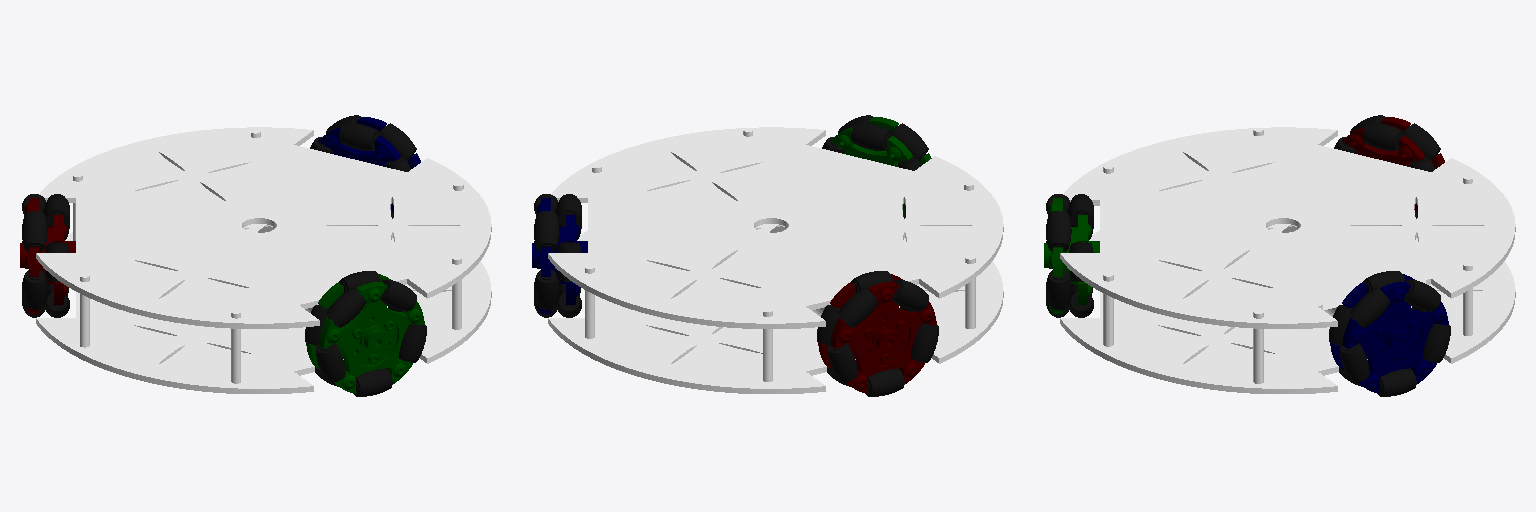
--- Facts derived from the render (not from the file) ---
3 views of the same robot in one strip: view 1: azimuth 30°, elevation 25°; view 2: azimuth 150°, elevation 25°; view 3: azimuth 270°, elevation 25° (orthographic).
Robot: open_base — 35 links, 34 joints (33 continuous, 1 fixed); root link origin_link; default pose: all joints at 0.
Visible links, largest first — view 1: base_link, rim_back_link, rim_right_link, rim_left_link, roller_lefttdownback_rim_back_link, roller_upfront_rim_right_link, roller_rightdownback_rim_left_link, roller_leftupback_rim_back_link, roller_upback_rim_back_link, roller_rightupback_rim_back_link, roller_rightupback_rim_left_link, roller_rightdownback_rim_back_link (+2 smaller); view 2: base_link, rim_left_link, rim_back_link, rim_right_link, roller_lefttdownback_rim_left_link, roller_upfront_rim_back_link, roller_rightdownback_rim_right_link, roller_leftupback_rim_left_link, roller_upback_rim_left_link, roller_rightupback_rim_left_link, roller_rightupback_rim_right_link, roller_rightdownback_rim_left_link (+3 smaller); view 3: base_link, rim_right_link, rim_left_link, rim_back_link, roller_lefttdownback_rim_right_link, roller_upfront_rim_left_link, roller_rightdownback_rim_back_link, roller_leftupback_rim_right_link, roller_upback_rim_right_link, roller_rightupback_rim_right_link, roller_rightupback_rim_back_link, roller_rightdownback_rim_right_link (+3 smaller).
Link boxes in pixels (x1,y1,x2,y2): base_link: (36, 127, 491, 393); rim_back_link: (306, 274, 424, 393); rim_right_link: (318, 117, 420, 213); rim_left_link: (20, 198, 75, 313); roller_lefttdownback_rim_back_link: (326, 288, 366, 327); roller_upfront_rim_right_link: (339, 123, 380, 150); roller_rightdownback_rim_left_link: (22, 211, 47, 251); roller_leftupback_rim_back_link: (316, 343, 345, 382); roller_upback_rim_back_link: (353, 369, 392, 396); roller_rightupback_rim_back_link: (399, 324, 426, 362); roller_rightupback_rim_left_link: (22, 270, 47, 309); roller_rightdownback_rim_back_link: (380, 279, 416, 311); base_link: (548, 127, 1003, 393); rim_left_link: (818, 274, 936, 393); rim_back_link: (830, 117, 931, 213); rim_right_link: (532, 198, 587, 313); roller_lefttdownback_rim_left_link: (838, 288, 878, 327); roller_upfront_rim_back_link: (851, 123, 892, 150); roller_rightdownback_rim_right_link: (534, 211, 559, 251); roller_leftupback_rim_left_link: (828, 343, 857, 382); roller_upback_rim_left_link: (865, 369, 904, 396); roller_rightupback_rim_left_link: (911, 324, 938, 362); roller_rightupback_rim_right_link: (534, 270, 559, 309); roller_rightdownback_rim_left_link: (892, 279, 928, 311); base_link: (1060, 127, 1515, 393); rim_right_link: (1330, 274, 1448, 393); rim_left_link: (1342, 117, 1444, 213); rim_back_link: (1044, 198, 1099, 313); roller_lefttdownback_rim_right_link: (1350, 288, 1390, 327); roller_upfront_rim_left_link: (1363, 123, 1404, 150); roller_rightdownback_rim_back_link: (1046, 211, 1071, 251); roller_leftupback_rim_right_link: (1340, 343, 1369, 382); roller_upback_rim_right_link: (1377, 369, 1416, 396); roller_rightupback_rim_right_link: (1423, 324, 1450, 362); roller_rightupback_rim_back_link: (1046, 270, 1071, 309); roller_rightdownback_rim_right_link: (1404, 279, 1440, 311).
Size in the robot's own frame: 0.226 by 0.2291 by 0.0606 metres.
34 mesh visuals loaded from 3 distinct referenced files (3 binary STL).

robot.urdf — open_base:
<?xml version="1.0" ?>
<!-- =================================================================================== -->
<!-- |    This document was autogenerated by xacro from main.urdf.xacro                | -->
<!-- |    EDITING THIS FILE BY HAND IS NOT RECOMMENDED                                 | -->
<!-- =================================================================================== -->
<robot name="open_base" xmlns:xacro="http://www.ros.org/wiki/xacro">
  <link name="origin_link"/>
  <link name="base_link">
    <inertial>
      <mass value="0.660"/>
      <inertia ixx="0.0029" ixy="3.82830626450116e-06" ixz="1.95168554660843e-06" iyy="0.00368658386788590" iyz="0.000245762249215231" izz="0.00610900095537055"/>
    </inertial>
    <visual>
      <geometry>
        <mesh filename="package://erobotica_omnibot/mesh/chassi.stl"/>
      </geometry>
      <material name="base_material">
        <color rgba="1 1 1 1"/>
      </material>
    </visual>
    <collision>
      <geometry>
        <mesh filename="package://erobotica_omnibot/mesh/chassi.stl"/>
      </geometry>
    </collision>
  </link>
  <joint name="base_joint" type="fixed">
    <parent link="origin_link"/>
    <child link="base_link"/>
    <origin xyz="0 0 0.020269"/>
  </joint>
  <link name="rim_left_link">
    <inertial>
      <origin xyz="0 0 -0.000343"/>
      <mass value="0.083"/>
      <inertia ixx="0.1449e-04" ixy="0" ixz="0" iyy="0.1449e-04" iyz="0" izz="0.2283e-04"/>
    </inertial>
    <visual>
      <geometry>
        <mesh filename="package://erobotica_omnibot/mesh/roda.stl"/>
      </geometry>
      <material name="rim_left_material">
        <color rgba="0.3 0 0 1"/>
      </material>
    </visual>
    <collision>
      <!---test -->
      <geometry>
        <!---<cylinder length="0.6" radius="0.029"/> -->
        <mesh filename="package://erobotica_omnibot/mesh/roda.stl"/>
      </geometry>
    </collision>
  </link>
  <joint name="rim_left_joint" type="continuous">
    <parent link="base_link"/>
    <child link="rim_left_link"/>
    <axis xyz="0 0 1"/>
    <origin rpy="1.570796326794896 0 1.047197551196597" xyz="-0.0893842140 0.051606 0.020269"/>
  </joint>
  <link name="roller_upfront_rim_left_link">
    <inertial>
      <mass value="0.001"/>
      <inertia ixx="3.976186554728152e-08" ixy="0" ixz="0" iyy="3.976186554728152e-08" iyz="0" izz="2.092071223656384e-08"/>
    </inertial>
    <visual>
      <geometry>
        <mesh filename="package://erobotica_omnibot/mesh/rolamento.stl"/>
      </geometry>
      <material name="roller_material">
        <color rgba="0.1 0.1 0.1 1"/>
      </material>
    </visual>
    <collision>
      <geometry>
        <mesh filename="package://erobotica_omnibot/mesh/rolamento.stl"/>
      </geometry>
    </collision>
  </link>
  <gazebo reference="roller_upfront_rim_left_link">
    <material>Gazebo/Black</material>
  </gazebo>
  <joint name="roller_upfront_rim_left_joint" type="continuous">
    <parent link="rim_left_link"/>
    <child link="roller_upfront_rim_left_link"/>
    <axis xyz="0 0 1"/>
    <origin rpy="-1.570796326794896 0 1.570796326794896" xyz="0 0.02406 0.005"/>
  </joint>
  <link name="roller_rightupfront_rim_left_link">
    <inertial>
      <mass value="0.001"/>
      <inertia ixx="3.976186554728152e-08" ixy="0" ixz="0" iyy="3.976186554728152e-08" iyz="0" izz="2.092071223656384e-08"/>
    </inertial>
    <visual>
      <geometry>
        <mesh filename="package://erobotica_omnibot/mesh/rolamento.stl"/>
      </geometry>
      <material name="roller_material">
        <color rgba="0.1 0.1 0.1 1"/>
      </material>
    </visual>
    <collision>
      <geometry>
        <mesh filename="package://erobotica_omnibot/mesh/rolamento.stl"/>
      </geometry>
    </collision>
  </link>
  <gazebo reference="roller_rightupfront_rim_left_link">
    <material>Gazebo/Black</material>
  </gazebo>
  <joint name="roller_rightupfront_rim_left_joint" type="continuous">
    <parent link="rim_left_link"/>
    <child link="roller_rightupfront_rim_left_link"/>
    <axis xyz="0 0 1"/>
    <origin rpy="-1.570796326794896 0 -2.82743" xyz=" 0.02288 0.00743 0.005"/>
  </joint>
  <link name="roller_leftupfront_rim_left_link">
    <inertial>
      <mass value="0.001"/>
      <inertia ixx="3.976186554728152e-08" ixy="0" ixz="0" iyy="3.976186554728152e-08" iyz="0" izz="2.092071223656384e-08"/>
    </inertial>
    <visual>
      <geometry>
        <mesh filename="package://erobotica_omnibot/mesh/rolamento.stl"/>
      </geometry>
      <material name="roller_material">
        <color rgba="0.1 0.1 0.1 1"/>
      </material>
    </visual>
    <collision>
      <geometry>
        <mesh filename="package://erobotica_omnibot/mesh/rolamento.stl"/>
      </geometry>
    </collision>
  </link>
  <gazebo reference="roller_leftupfront_rim_left_link">
    <material>Gazebo/Black</material>
  </gazebo>
  <joint name="roller_leftupfront_rim_left_joint" type="continuous">
    <parent link="rim_left_link"/>
    <child link="roller_leftupfront_rim_left_link"/>
    <axis xyz="0 0 1"/>
    <origin rpy="-1.570796326794896 0 2.82743" xyz=" -0.02288  0.00743 0.005"/>
  </joint>
  <link name="roller_rightdownfront_rim_left_link">
    <inertial>
      <mass value="0.001"/>
      <inertia ixx="3.976186554728152e-08" ixy="0" ixz="0" iyy="3.976186554728152e-08" iyz="0" izz="2.092071223656384e-08"/>
    </inertial>
    <visual>
      <geometry>
        <mesh filename="package://erobotica_omnibot/mesh/rolamento.stl"/>
      </geometry>
      <material name="roller_material">
        <color rgba="0.1 0.1 0.1 1"/>
      </material>
    </visual>
    <collision>
      <geometry>
        <mesh filename="package://erobotica_omnibot/mesh/rolamento.stl"/>
      </geometry>
    </collision>
  </link>
  <gazebo reference="roller_rightdownfront_rim_left_link">
    <material>Gazebo/Black</material>
  </gazebo>
  <joint name="roller_rightdownfront_rim_left_joint" type="continuous">
    <parent link="rim_left_link"/>
    <child link="roller_rightdownfront_rim_left_link"/>
    <axis xyz="0 0 1"/>
    <origin rpy="-1.570796326794896 0 -0.959931" xyz="0.01414 -0.01947 0.005"/>
  </joint>
  <link name="roller_lefttdownfront_rim_left_link">
    <inertial>
      <mass value="0.001"/>
      <inertia ixx="3.976186554728152e-08" ixy="0" ixz="0" iyy="3.976186554728152e-08" iyz="0" izz="2.092071223656384e-08"/>
    </inertial>
    <visual>
      <geometry>
        <mesh filename="package://erobotica_omnibot/mesh/rolamento.stl"/>
      </geometry>
      <material name="roller_material">
        <color rgba="0.1 0.1 0.1 1"/>
      </material>
    </visual>
    <collision>
      <geometry>
        <mesh filename="package://erobotica_omnibot/mesh/rolamento.stl"/>
      </geometry>
    </collision>
  </link>
  <gazebo reference="roller_lefttdownfront_rim_left_link">
    <material>Gazebo/Black</material>
  </gazebo>
  <joint name="roller_lefttdownfront_rim_left_joint" type="continuous">
    <parent link="rim_left_link"/>
    <child link="roller_lefttdownfront_rim_left_link"/>
    <axis xyz="0 0 1"/>
    <origin rpy="-1.570796326794896 0 0.959931" xyz="-0.01414 -0.01947 0.005"/>
  </joint>
  <!---Back part of the wheel -->
  <link name="roller_upback_rim_left_link">
    <inertial>
      <mass value="0.001"/>
      <inertia ixx="3.976186554728152e-08" ixy="0" ixz="0" iyy="3.976186554728152e-08" iyz="0" izz="2.092071223656384e-08"/>
    </inertial>
    <visual>
      <geometry>
        <mesh filename="package://erobotica_omnibot/mesh/rolamento.stl"/>
      </geometry>
      <material name="roller_material">
        <color rgba="0.1 0.1 0.1 1"/>
      </material>
    </visual>
    <collision>
      <geometry>
        <mesh filename="package://erobotica_omnibot/mesh/rolamento.stl"/>
      </geometry>
    </collision>
  </link>
  <gazebo reference="roller_upback_rim_left_link">
    <material>Gazebo/Black</material>
  </gazebo>
  <joint name="roller_upback_rim_left_joint" type="continuous">
    <parent link="rim_left_link"/>
    <child link="roller_upback_rim_left_link"/>
    <axis xyz="0 0 1"/>
    <origin rpy="-1.570796326794896 0 1.570796326794896" xyz="0 -0.02406 -0.006"/>
  </joint>
  <link name="roller_rightupback_rim_left_link">
    <inertial>
      <mass value="0.001"/>
      <inertia ixx="3.976186554728152e-08" ixy="0" ixz="0" iyy="3.976186554728152e-08" iyz="0" izz="2.092071223656384e-08"/>
    </inertial>
    <visual>
      <geometry>
        <mesh filename="package://erobotica_omnibot/mesh/rolamento.stl"/>
      </geometry>
      <material name="roller_material">
        <color rgba="0.1 0.1 0.1 1"/>
      </material>
    </visual>
    <collision>
      <geometry>
        <mesh filename="package://erobotica_omnibot/mesh/rolamento.stl"/>
      </geometry>
    </collision>
  </link>
  <gazebo reference="roller_rightupback_rim_left_link">
    <material>Gazebo/Black</material>
  </gazebo>
  <joint name="roller_rightupback_rim_left_joint" type="continuous">
    <parent link="rim_left_link"/>
    <child link="roller_rightupback_rim_left_link"/>
    <axis xyz="0 0 1"/>
    <origin rpy="-1.570796326794896 0 -2.82743" xyz=" -0.02288 -0.00743 -0.006"/>
  </joint>
  <link name="roller_leftupback_rim_left_link">
    <inertial>
      <mass value="0.001"/>
      <inertia ixx="3.976186554728152e-08" ixy="0" ixz="0" iyy="3.976186554728152e-08" iyz="0" izz="2.092071223656384e-08"/>
    </inertial>
    <visual>
      <geometry>
        <mesh filename="package://erobotica_omnibot/mesh/rolamento.stl"/>
      </geometry>
      <material name="roller_material">
        <color rgba="0.1 0.1 0.1 1"/>
      </material>
    </visual>
    <collision>
      <geometry>
        <mesh filename="package://erobotica_omnibot/mesh/rolamento.stl"/>
      </geometry>
    </collision>
  </link>
  <gazebo reference="roller_leftupback_rim_left_link">
    <material>Gazebo/Black</material>
  </gazebo>
  <joint name="roller_leftupback_rim_left_joint" type="continuous">
    <parent link="rim_left_link"/>
    <child link="roller_leftupback_rim_left_link"/>
    <axis xyz="0 0 1"/>
    <origin rpy="-1.570796326794896 0 2.82743" xyz=" 0.02288 -0.00743 -0.006"/>
  </joint>
  <link name="roller_rightdownback_rim_left_link">
    <inertial>
      <mass value="0.001"/>
      <inertia ixx="3.976186554728152e-08" ixy="0" ixz="0" iyy="3.976186554728152e-08" iyz="0" izz="2.092071223656384e-08"/>
    </inertial>
    <visual>
      <geometry>
        <mesh filename="package://erobotica_omnibot/mesh/rolamento.stl"/>
      </geometry>
      <material name="roller_material">
        <color rgba="0.1 0.1 0.1 1"/>
      </material>
    </visual>
    <collision>
      <geometry>
        <mesh filename="package://erobotica_omnibot/mesh/rolamento.stl"/>
      </geometry>
    </collision>
  </link>
  <gazebo reference="roller_rightdownback_rim_left_link">
    <material>Gazebo/Black</material>
  </gazebo>
  <joint name="roller_rightdownback_rim_left_joint" type="continuous">
    <parent link="rim_left_link"/>
    <child link="roller_rightdownback_rim_left_link"/>
    <axis xyz="0 0 1"/>
    <origin rpy="-1.570796326794896 0 -0.959931" xyz="-0.01414 0.01947 -0.006"/>
  </joint>
  <link name="roller_lefttdownback_rim_left_link">
    <inertial>
      <mass value="0.001"/>
      <inertia ixx="3.976186554728152e-08" ixy="0" ixz="0" iyy="3.976186554728152e-08" iyz="0" izz="2.092071223656384e-08"/>
    </inertial>
    <visual>
      <geometry>
        <mesh filename="package://erobotica_omnibot/mesh/rolamento.stl"/>
      </geometry>
      <material name="roller_material">
        <color rgba="0.1 0.1 0.1 1"/>
      </material>
    </visual>
    <collision>
      <geometry>
        <mesh filename="package://erobotica_omnibot/mesh/rolamento.stl"/>
      </geometry>
    </collision>
  </link>
  <gazebo reference="roller_lefttdownback_rim_left_link">
    <material>Gazebo/Black</material>
  </gazebo>
  <joint name="roller_lefttdownback_rim_left_joint" type="continuous">
    <parent link="rim_left_link"/>
    <child link="roller_lefttdownback_rim_left_link"/>
    <axis xyz="0 0 1"/>
    <origin rpy="-1.570796326794896 0 0.959931" xyz="0.01414  0.01947 -0.006"/>
  </joint>
  <transmission name="rim_left_transmission">
    <type>transmission_interface/SimpleTransmission</type>
    <joint name="rim_left_joint">
      <hardwareInterface>hardware_interface/VelocityJointInterface</hardwareInterface>
    </joint>
    <actuator name="rim_left_motor">
      <hardwareInterface>hardware_interface/VelocityJointInterface</hardwareInterface>
      <mechanicalReduction>1</mechanicalReduction>
    </actuator>
  </transmission>
  <link name="rim_back_link">
    <inertial>
      <origin xyz="0 0 -0.000343"/>
      <mass value="0.083"/>
      <inertia ixx="0.1449e-04" ixy="0" ixz="0" iyy="0.1449e-04" iyz="0" izz="0.2283e-04"/>
    </inertial>
    <visual>
      <geometry>
        <mesh filename="package://erobotica_omnibot/mesh/roda.stl"/>
      </geometry>
      <material name="rim_back_material">
        <color rgba="0 0.3 0 1"/>
      </material>
    </visual>
    <collision>
      <!---test -->
      <geometry>
        <!---<cylinder length="0.6" radius="0.029"/> -->
        <mesh filename="package://erobotica_omnibot/mesh/roda.stl"/>
      </geometry>
    </collision>
  </link>
  <joint name="rim_back_joint" type="continuous">
    <parent link="base_link"/>
    <child link="rim_back_link"/>
    <axis xyz="0 0 1"/>
    <origin rpy="1.570796326794896 0 3.141592653589793" xyz="0 -0.103212  0.020269"/>
  </joint>
  <link name="roller_upfront_rim_back_link">
    <inertial>
      <mass value="0.001"/>
      <inertia ixx="3.976186554728152e-08" ixy="0" ixz="0" iyy="3.976186554728152e-08" iyz="0" izz="2.092071223656384e-08"/>
    </inertial>
    <visual>
      <geometry>
        <mesh filename="package://erobotica_omnibot/mesh/rolamento.stl"/>
      </geometry>
      <material name="roller_material">
        <color rgba="0.1 0.1 0.1 1"/>
      </material>
    </visual>
    <collision>
      <geometry>
        <mesh filename="package://erobotica_omnibot/mesh/rolamento.stl"/>
      </geometry>
    </collision>
  </link>
  <gazebo reference="roller_upfront_rim_back_link">
    <material>Gazebo/Black</material>
  </gazebo>
  <joint name="roller_upfront_rim_back_joint" type="continuous">
    <parent link="rim_back_link"/>
    <child link="roller_upfront_rim_back_link"/>
    <axis xyz="0 0 1"/>
    <origin rpy="-1.570796326794896 0 1.570796326794896" xyz="0 0.02406 0.005"/>
  </joint>
  <link name="roller_rightupfront_rim_back_link">
    <inertial>
      <mass value="0.001"/>
      <inertia ixx="3.976186554728152e-08" ixy="0" ixz="0" iyy="3.976186554728152e-08" iyz="0" izz="2.092071223656384e-08"/>
    </inertial>
    <visual>
      <geometry>
        <mesh filename="package://erobotica_omnibot/mesh/rolamento.stl"/>
      </geometry>
      <material name="roller_material">
        <color rgba="0.1 0.1 0.1 1"/>
      </material>
    </visual>
    <collision>
      <geometry>
        <mesh filename="package://erobotica_omnibot/mesh/rolamento.stl"/>
      </geometry>
    </collision>
  </link>
  <gazebo reference="roller_rightupfront_rim_back_link">
    <material>Gazebo/Black</material>
  </gazebo>
  <joint name="roller_rightupfront_rim_back_joint" type="continuous">
    <parent link="rim_back_link"/>
    <child link="roller_rightupfront_rim_back_link"/>
    <axis xyz="0 0 1"/>
    <origin rpy="-1.570796326794896 0 -2.82743" xyz=" 0.02288 0.00743 0.005"/>
  </joint>
  <link name="roller_leftupfront_rim_back_link">
    <inertial>
      <mass value="0.001"/>
      <inertia ixx="3.976186554728152e-08" ixy="0" ixz="0" iyy="3.976186554728152e-08" iyz="0" izz="2.092071223656384e-08"/>
    </inertial>
    <visual>
      <geometry>
        <mesh filename="package://erobotica_omnibot/mesh/rolamento.stl"/>
      </geometry>
      <material name="roller_material">
        <color rgba="0.1 0.1 0.1 1"/>
      </material>
    </visual>
    <collision>
      <geometry>
        <mesh filename="package://erobotica_omnibot/mesh/rolamento.stl"/>
      </geometry>
    </collision>
  </link>
  <gazebo reference="roller_leftupfront_rim_back_link">
    <material>Gazebo/Black</material>
  </gazebo>
  <joint name="roller_leftupfront_rim_back_joint" type="continuous">
    <parent link="rim_back_link"/>
    <child link="roller_leftupfront_rim_back_link"/>
    <axis xyz="0 0 1"/>
    <origin rpy="-1.570796326794896 0 2.82743" xyz=" -0.02288  0.00743 0.005"/>
  </joint>
  <link name="roller_rightdownfront_rim_back_link">
    <inertial>
      <mass value="0.001"/>
      <inertia ixx="3.976186554728152e-08" ixy="0" ixz="0" iyy="3.976186554728152e-08" iyz="0" izz="2.092071223656384e-08"/>
    </inertial>
    <visual>
      <geometry>
        <mesh filename="package://erobotica_omnibot/mesh/rolamento.stl"/>
      </geometry>
      <material name="roller_material">
        <color rgba="0.1 0.1 0.1 1"/>
      </material>
    </visual>
    <collision>
      <geometry>
        <mesh filename="package://erobotica_omnibot/mesh/rolamento.stl"/>
      </geometry>
    </collision>
  </link>
  <gazebo reference="roller_rightdownfront_rim_back_link">
    <material>Gazebo/Black</material>
  </gazebo>
  <joint name="roller_rightdownfront_rim_back_joint" type="continuous">
    <parent link="rim_back_link"/>
    <child link="roller_rightdownfront_rim_back_link"/>
    <axis xyz="0 0 1"/>
    <origin rpy="-1.570796326794896 0 -0.959931" xyz="0.01414 -0.01947 0.005"/>
  </joint>
  <link name="roller_lefttdownfront_rim_back_link">
    <inertial>
      <mass value="0.001"/>
      <inertia ixx="3.976186554728152e-08" ixy="0" ixz="0" iyy="3.976186554728152e-08" iyz="0" izz="2.092071223656384e-08"/>
    </inertial>
    <visual>
      <geometry>
        <mesh filename="package://erobotica_omnibot/mesh/rolamento.stl"/>
      </geometry>
      <material name="roller_material">
        <color rgba="0.1 0.1 0.1 1"/>
      </material>
    </visual>
    <collision>
      <geometry>
        <mesh filename="package://erobotica_omnibot/mesh/rolamento.stl"/>
      </geometry>
    </collision>
  </link>
  <gazebo reference="roller_lefttdownfront_rim_back_link">
    <material>Gazebo/Black</material>
  </gazebo>
  <joint name="roller_lefttdownfront_rim_back_joint" type="continuous">
    <parent link="rim_back_link"/>
    <child link="roller_lefttdownfront_rim_back_link"/>
    <axis xyz="0 0 1"/>
    <origin rpy="-1.570796326794896 0 0.959931" xyz="-0.01414 -0.01947 0.005"/>
  </joint>
  <!---Back part of the wheel -->
  <link name="roller_upback_rim_back_link">
    <inertial>
      <mass value="0.001"/>
      <inertia ixx="3.976186554728152e-08" ixy="0" ixz="0" iyy="3.976186554728152e-08" iyz="0" izz="2.092071223656384e-08"/>
    </inertial>
    <visual>
      <geometry>
        <mesh filename="package://erobotica_omnibot/mesh/rolamento.stl"/>
      </geometry>
      <material name="roller_material">
        <color rgba="0.1 0.1 0.1 1"/>
      </material>
    </visual>
    <collision>
      <geometry>
        <mesh filename="package://erobotica_omnibot/mesh/rolamento.stl"/>
      </geometry>
    </collision>
  </link>
  <gazebo reference="roller_upback_rim_back_link">
    <material>Gazebo/Black</material>
  </gazebo>
  <joint name="roller_upback_rim_back_joint" type="continuous">
    <parent link="rim_back_link"/>
    <child link="roller_upback_rim_back_link"/>
    <axis xyz="0 0 1"/>
    <origin rpy="-1.570796326794896 0 1.570796326794896" xyz="0 -0.02406 -0.006"/>
  </joint>
  <link name="roller_rightupback_rim_back_link">
    <inertial>
      <mass value="0.001"/>
      <inertia ixx="3.976186554728152e-08" ixy="0" ixz="0" iyy="3.976186554728152e-08" iyz="0" izz="2.092071223656384e-08"/>
    </inertial>
    <visual>
      <geometry>
        <mesh filename="package://erobotica_omnibot/mesh/rolamento.stl"/>
      </geometry>
      <material name="roller_material">
        <color rgba="0.1 0.1 0.1 1"/>
      </material>
    </visual>
    <collision>
      <geometry>
        <mesh filename="package://erobotica_omnibot/mesh/rolamento.stl"/>
      </geometry>
    </collision>
  </link>
  <gazebo reference="roller_rightupback_rim_back_link">
    <material>Gazebo/Black</material>
  </gazebo>
  <joint name="roller_rightupback_rim_back_joint" type="continuous">
    <parent link="rim_back_link"/>
    <child link="roller_rightupback_rim_back_link"/>
    <axis xyz="0 0 1"/>
    <origin rpy="-1.570796326794896 0 -2.82743" xyz=" -0.02288 -0.00743 -0.006"/>
  </joint>
  <link name="roller_leftupback_rim_back_link">
    <inertial>
      <mass value="0.001"/>
      <inertia ixx="3.976186554728152e-08" ixy="0" ixz="0" iyy="3.976186554728152e-08" iyz="0" izz="2.092071223656384e-08"/>
    </inertial>
    <visual>
      <geometry>
        <mesh filename="package://erobotica_omnibot/mesh/rolamento.stl"/>
      </geometry>
      <material name="roller_material">
        <color rgba="0.1 0.1 0.1 1"/>
      </material>
    </visual>
    <collision>
      <geometry>
        <mesh filename="package://erobotica_omnibot/mesh/rolamento.stl"/>
      </geometry>
    </collision>
  </link>
  <gazebo reference="roller_leftupback_rim_back_link">
    <material>Gazebo/Black</material>
  </gazebo>
  <joint name="roller_leftupback_rim_back_joint" type="continuous">
    <parent link="rim_back_link"/>
    <child link="roller_leftupback_rim_back_link"/>
    <axis xyz="0 0 1"/>
    <origin rpy="-1.570796326794896 0 2.82743" xyz=" 0.02288 -0.00743 -0.006"/>
  </joint>
  <link name="roller_rightdownback_rim_back_link">
    <inertial>
      <mass value="0.001"/>
      <inertia ixx="3.976186554728152e-08" ixy="0" ixz="0" iyy="3.976186554728152e-08" iyz="0" izz="2.092071223656384e-08"/>
    </inertial>
    <visual>
      <geometry>
        <mesh filename="package://erobotica_omnibot/mesh/rolamento.stl"/>
      </geometry>
      <material name="roller_material">
        <color rgba="0.1 0.1 0.1 1"/>
      </material>
    </visual>
    <collision>
      <geometry>
        <mesh filename="package://erobotica_omnibot/mesh/rolamento.stl"/>
      </geometry>
    </collision>
  </link>
  <gazebo reference="roller_rightdownback_rim_back_link">
    <material>Gazebo/Black</material>
  </gazebo>
  <joint name="roller_rightdownback_rim_back_joint" type="continuous">
    <parent link="rim_back_link"/>
    <child link="roller_rightdownback_rim_back_link"/>
    <axis xyz="0 0 1"/>
    <origin rpy="-1.570796326794896 0 -0.959931" xyz="-0.01414 0.01947 -0.006"/>
  </joint>
  <link name="roller_lefttdownback_rim_back_link">
    <inertial>
      <mass value="0.001"/>
      <inertia ixx="3.976186554728152e-08" ixy="0" ixz="0" iyy="3.976186554728152e-08" iyz="0" izz="2.092071223656384e-08"/>
    </inertial>
    <visual>
      <geometry>
        <mesh filename="package://erobotica_omnibot/mesh/rolamento.stl"/>
      </geometry>
      <material name="roller_material">
        <color rgba="0.1 0.1 0.1 1"/>
      </material>
    </visual>
    <collision>
      <geometry>
        <mesh filename="package://erobotica_omnibot/mesh/rolamento.stl"/>
      </geometry>
    </collision>
  </link>
  <gazebo reference="roller_lefttdownback_rim_back_link">
    <material>Gazebo/Black</material>
  </gazebo>
  <joint name="roller_lefttdownback_rim_back_joint" type="continuous">
    <parent link="rim_back_link"/>
    <child link="roller_lefttdownback_rim_back_link"/>
    <axis xyz="0 0 1"/>
    <origin rpy="-1.570796326794896 0 0.959931" xyz="0.01414  0.01947 -0.006"/>
  </joint>
  <transmission name="rim_back_transmission">
    <type>transmission_interface/SimpleTransmission</type>
    <joint name="rim_back_joint">
      <hardwareInterface>hardware_interface/VelocityJointInterface</hardwareInterface>
    </joint>
    <actuator name="rim_back_motor">
      <hardwareInterface>hardware_interface/VelocityJointInterface</hardwareInterface>
      <mechanicalReduction>1</mechanicalReduction>
    </actuator>
  </transmission>
  <link name="rim_right_link">
    <inertial>
      <origin xyz="0 0 -0.000343"/>
      <mass value="0.083"/>
      <inertia ixx="0.1449e-04" ixy="0" ixz="0" iyy="0.1449e-04" iyz="0" izz="0.2283e-04"/>
    </inertial>
    <visual>
      <geometry>
        <mesh filename="package://erobotica_omnibot/mesh/roda.stl"/>
      </geometry>
      <material name="rim_right_material">
        <color rgba="0 0 0.3 1"/>
      </material>
    </visual>
    <collision>
      <!---test -->
      <geometry>
        <!---<cylinder length="0.6" radius="0.029"/> -->
        <mesh filename="package://erobotica_omnibot/mesh/roda.stl"/>
      </geometry>
    </collision>
  </link>
  <joint name="rim_right_joint" type="continuous">
    <parent link="base_link"/>
    <child link="rim_right_link"/>
    <axis xyz="0 0 1"/>
    <origin rpy="1.570796326794896 0 -1.047197551196597" xyz="0.0893842140 0.051606 0.020269"/>
  </joint>
  <link name="roller_upfront_rim_right_link">
    <inertial>
      <mass value="0.001"/>
      <inertia ixx="3.976186554728152e-08" ixy="0" ixz="0" iyy="3.976186554728152e-08" iyz="0" izz="2.092071223656384e-08"/>
    </inertial>
    <visual>
      <geometry>
        <mesh filename="package://erobotica_omnibot/mesh/rolamento.stl"/>
      </geometry>
      <material name="roller_material">
        <color rgba="0.1 0.1 0.1 1"/>
      </material>
    </visual>
    <collision>
      <geometry>
        <mesh filename="package://erobotica_omnibot/mesh/rolamento.stl"/>
      </geometry>
    </collision>
  </link>
  <gazebo reference="roller_upfront_rim_right_link">
    <material>Gazebo/Black</material>
  </gazebo>
  <joint name="roller_upfront_rim_right_joint" type="continuous">
    <parent link="rim_right_link"/>
    <child link="roller_upfront_rim_right_link"/>
    <axis xyz="0 0 1"/>
    <origin rpy="-1.570796326794896 0 1.570796326794896" xyz="0 0.02406 0.005"/>
  </joint>
  <link name="roller_rightupfront_rim_right_link">
    <inertial>
      <mass value="0.001"/>
      <inertia ixx="3.976186554728152e-08" ixy="0" ixz="0" iyy="3.976186554728152e-08" iyz="0" izz="2.092071223656384e-08"/>
    </inertial>
    <visual>
      <geometry>
        <mesh filename="package://erobotica_omnibot/mesh/rolamento.stl"/>
      </geometry>
      <material name="roller_material">
        <color rgba="0.1 0.1 0.1 1"/>
      </material>
    </visual>
    <collision>
      <geometry>
        <mesh filename="package://erobotica_omnibot/mesh/rolamento.stl"/>
      </geometry>
    </collision>
  </link>
  <gazebo reference="roller_rightupfront_rim_right_link">
    <material>Gazebo/Black</material>
  </gazebo>
  <joint name="roller_rightupfront_rim_right_joint" type="continuous">
    <parent link="rim_right_link"/>
    <child link="roller_rightupfront_rim_right_link"/>
    <axis xyz="0 0 1"/>
    <origin rpy="-1.570796326794896 0 -2.82743" xyz=" 0.02288 0.00743 0.005"/>
  </joint>
  <link name="roller_leftupfront_rim_right_link">
    <inertial>
      <mass value="0.001"/>
      <inertia ixx="3.976186554728152e-08" ixy="0" ixz="0" iyy="3.976186554728152e-08" iyz="0" izz="2.092071223656384e-08"/>
    </inertial>
    <visual>
      <geometry>
        <mesh filename="package://erobotica_omnibot/mesh/rolamento.stl"/>
      </geometry>
      <material name="roller_material">
        <color rgba="0.1 0.1 0.1 1"/>
      </material>
    </visual>
    <collision>
      <geometry>
        <mesh filename="package://erobotica_omnibot/mesh/rolamento.stl"/>
      </geometry>
    </collision>
  </link>
  <gazebo reference="roller_leftupfront_rim_right_link">
    <material>Gazebo/Black</material>
  </gazebo>
  <joint name="roller_leftupfront_rim_right_joint" type="continuous">
    <parent link="rim_right_link"/>
    <child link="roller_leftupfront_rim_right_link"/>
    <axis xyz="0 0 1"/>
    <origin rpy="-1.570796326794896 0 2.82743" xyz=" -0.02288  0.00743 0.005"/>
  </joint>
  <link name="roller_rightdownfront_rim_right_link">
    <inertial>
      <mass value="0.001"/>
      <inertia ixx="3.976186554728152e-08" ixy="0" ixz="0" iyy="3.976186554728152e-08" iyz="0" izz="2.092071223656384e-08"/>
    </inertial>
    <visual>
      <geometry>
        <mesh filename="package://erobotica_omnibot/mesh/rolamento.stl"/>
      </geometry>
      <material name="roller_material">
        <color rgba="0.1 0.1 0.1 1"/>
      </material>
    </visual>
    <collision>
      <geometry>
        <mesh filename="package://erobotica_omnibot/mesh/rolamento.stl"/>
      </geometry>
    </collision>
  </link>
  <gazebo reference="roller_rightdownfront_rim_right_link">
    <material>Gazebo/Black</material>
  </gazebo>
  <joint name="roller_rightdownfront_rim_right_joint" type="continuous">
    <parent link="rim_right_link"/>
    <child link="roller_rightdownfront_rim_right_link"/>
    <axis xyz="0 0 1"/>
    <origin rpy="-1.570796326794896 0 -0.959931" xyz="0.01414 -0.01947 0.005"/>
  </joint>
  <link name="roller_lefttdownfront_rim_right_link">
    <inertial>
      <mass value="0.001"/>
      <inertia ixx="3.976186554728152e-08" ixy="0" ixz="0" iyy="3.976186554728152e-08" iyz="0" izz="2.092071223656384e-08"/>
    </inertial>
    <visual>
      <geometry>
        <mesh filename="package://erobotica_omnibot/mesh/rolamento.stl"/>
      </geometry>
      <material name="roller_material">
        <color rgba="0.1 0.1 0.1 1"/>
      </material>
    </visual>
    <collision>
      <geometry>
        <mesh filename="package://erobotica_omnibot/mesh/rolamento.stl"/>
      </geometry>
    </collision>
  </link>
  <gazebo reference="roller_lefttdownfront_rim_right_link">
    <material>Gazebo/Black</material>
  </gazebo>
  <joint name="roller_lefttdownfront_rim_right_joint" type="continuous">
    <parent link="rim_right_link"/>
    <child link="roller_lefttdownfront_rim_right_link"/>
    <axis xyz="0 0 1"/>
    <origin rpy="-1.570796326794896 0 0.959931" xyz="-0.01414 -0.01947 0.005"/>
  </joint>
  <!---Back part of the wheel -->
  <link name="roller_upback_rim_right_link">
    <inertial>
      <mass value="0.001"/>
      <inertia ixx="3.976186554728152e-08" ixy="0" ixz="0" iyy="3.976186554728152e-08" iyz="0" izz="2.092071223656384e-08"/>
    </inertial>
    <visual>
      <geometry>
        <mesh filename="package://erobotica_omnibot/mesh/rolamento.stl"/>
      </geometry>
      <material name="roller_material">
        <color rgba="0.1 0.1 0.1 1"/>
      </material>
    </visual>
    <collision>
      <geometry>
        <mesh filename="package://erobotica_omnibot/mesh/rolamento.stl"/>
      </geometry>
    </collision>
  </link>
  <gazebo reference="roller_upback_rim_right_link">
    <material>Gazebo/Black</material>
  </gazebo>
  <joint name="roller_upback_rim_right_joint" type="continuous">
    <parent link="rim_right_link"/>
    <child link="roller_upback_rim_right_link"/>
    <axis xyz="0 0 1"/>
    <origin rpy="-1.570796326794896 0 1.570796326794896" xyz="0 -0.02406 -0.006"/>
  </joint>
  <link name="roller_rightupback_rim_right_link">
    <inertial>
      <mass value="0.001"/>
      <inertia ixx="3.976186554728152e-08" ixy="0" ixz="0" iyy="3.976186554728152e-08" iyz="0" izz="2.092071223656384e-08"/>
    </inertial>
    <visual>
      <geometry>
        <mesh filename="package://erobotica_omnibot/mesh/rolamento.stl"/>
      </geometry>
      <material name="roller_material">
        <color rgba="0.1 0.1 0.1 1"/>
      </material>
    </visual>
    <collision>
      <geometry>
        <mesh filename="package://erobotica_omnibot/mesh/rolamento.stl"/>
      </geometry>
    </collision>
  </link>
  <gazebo reference="roller_rightupback_rim_right_link">
    <material>Gazebo/Black</material>
  </gazebo>
  <joint name="roller_rightupback_rim_right_joint" type="continuous">
    <parent link="rim_right_link"/>
    <child link="roller_rightupback_rim_right_link"/>
    <axis xyz="0 0 1"/>
    <origin rpy="-1.570796326794896 0 -2.82743" xyz=" -0.02288 -0.00743 -0.006"/>
  </joint>
  <link name="roller_leftupback_rim_right_link">
    <inertial>
      <mass value="0.001"/>
      <inertia ixx="3.976186554728152e-08" ixy="0" ixz="0" iyy="3.976186554728152e-08" iyz="0" izz="2.092071223656384e-08"/>
    </inertial>
    <visual>
      <geometry>
        <mesh filename="package://erobotica_omnibot/mesh/rolamento.stl"/>
      </geometry>
      <material name="roller_material">
        <color rgba="0.1 0.1 0.1 1"/>
      </material>
    </visual>
    <collision>
      <geometry>
        <mesh filename="package://erobotica_omnibot/mesh/rolamento.stl"/>
      </geometry>
    </collision>
  </link>
  <gazebo reference="roller_leftupback_rim_right_link">
    <material>Gazebo/Black</material>
  </gazebo>
  <joint name="roller_leftupback_rim_right_joint" type="continuous">
    <parent link="rim_right_link"/>
    <child link="roller_leftupback_rim_right_link"/>
    <axis xyz="0 0 1"/>
    <origin rpy="-1.570796326794896 0 2.82743" xyz=" 0.02288 -0.00743 -0.006"/>
  </joint>
  <link name="roller_rightdownback_rim_right_link">
    <inertial>
      <mass value="0.001"/>
      <inertia ixx="3.976186554728152e-08" ixy="0" ixz="0" iyy="3.976186554728152e-08" iyz="0" izz="2.092071223656384e-08"/>
    </inertial>
    <visual>
      <geometry>
        <mesh filename="package://erobotica_omnibot/mesh/rolamento.stl"/>
      </geometry>
      <material name="roller_material">
        <color rgba="0.1 0.1 0.1 1"/>
      </material>
    </visual>
    <collision>
      <geometry>
        <mesh filename="package://erobotica_omnibot/mesh/rolamento.stl"/>
      </geometry>
    </collision>
  </link>
  <gazebo reference="roller_rightdownback_rim_right_link">
    <material>Gazebo/Black</material>
  </gazebo>
  <joint name="roller_rightdownback_rim_right_joint" type="continuous">
    <parent link="rim_right_link"/>
    <child link="roller_rightdownback_rim_right_link"/>
    <axis xyz="0 0 1"/>
    <origin rpy="-1.570796326794896 0 -0.959931" xyz="-0.01414 0.01947 -0.006"/>
  </joint>
  <link name="roller_lefttdownback_rim_right_link">
    <inertial>
      <mass value="0.001"/>
      <inertia ixx="3.976186554728152e-08" ixy="0" ixz="0" iyy="3.976186554728152e-08" iyz="0" izz="2.092071223656384e-08"/>
    </inertial>
    <visual>
      <geometry>
        <mesh filename="package://erobotica_omnibot/mesh/rolamento.stl"/>
      </geometry>
      <material name="roller_material">
        <color rgba="0.1 0.1 0.1 1"/>
      </material>
    </visual>
    <collision>
      <geometry>
        <mesh filename="package://erobotica_omnibot/mesh/rolamento.stl"/>
      </geometry>
    </collision>
  </link>
  <gazebo reference="roller_lefttdownback_rim_right_link">
    <material>Gazebo/Black</material>
  </gazebo>
  <joint name="roller_lefttdownback_rim_right_joint" type="continuous">
    <parent link="rim_right_link"/>
    <child link="roller_lefttdownback_rim_right_link"/>
    <axis xyz="0 0 1"/>
    <origin rpy="-1.570796326794896 0 0.959931" xyz="0.01414  0.01947 -0.006"/>
  </joint>
  <transmission name="rim_right_transmission">
    <type>transmission_interface/SimpleTransmission</type>
    <joint name="rim_right_joint">
      <hardwareInterface>hardware_interface/VelocityJointInterface</hardwareInterface>
    </joint>
    <actuator name="rim_right_motor">
      <hardwareInterface>hardware_interface/VelocityJointInterface</hardwareInterface>
      <mechanicalReduction>1</mechanicalReduction>
    </actuator>
  </transmission>
  <gazebo reference="base_link">
    <material>Gazebo/White</material>
  </gazebo>
  <gazebo reference="rim_left_link">
    <material>Gazebo/Red</material>
  </gazebo>
  <gazebo reference="rim_back_link">
    <material>Gazebo/Green</material>
  </gazebo>
  <gazebo reference="rim_right_link">
    <material>Gazebo/Blue</material>
  </gazebo>
  <gazebo>
    <plugin filename="libgazebo_ros_control.so" name="gazebo_ros_control">
      <robotNamespace>/open_base</robotNamespace>
    </plugin>
  </gazebo>
</robot>
